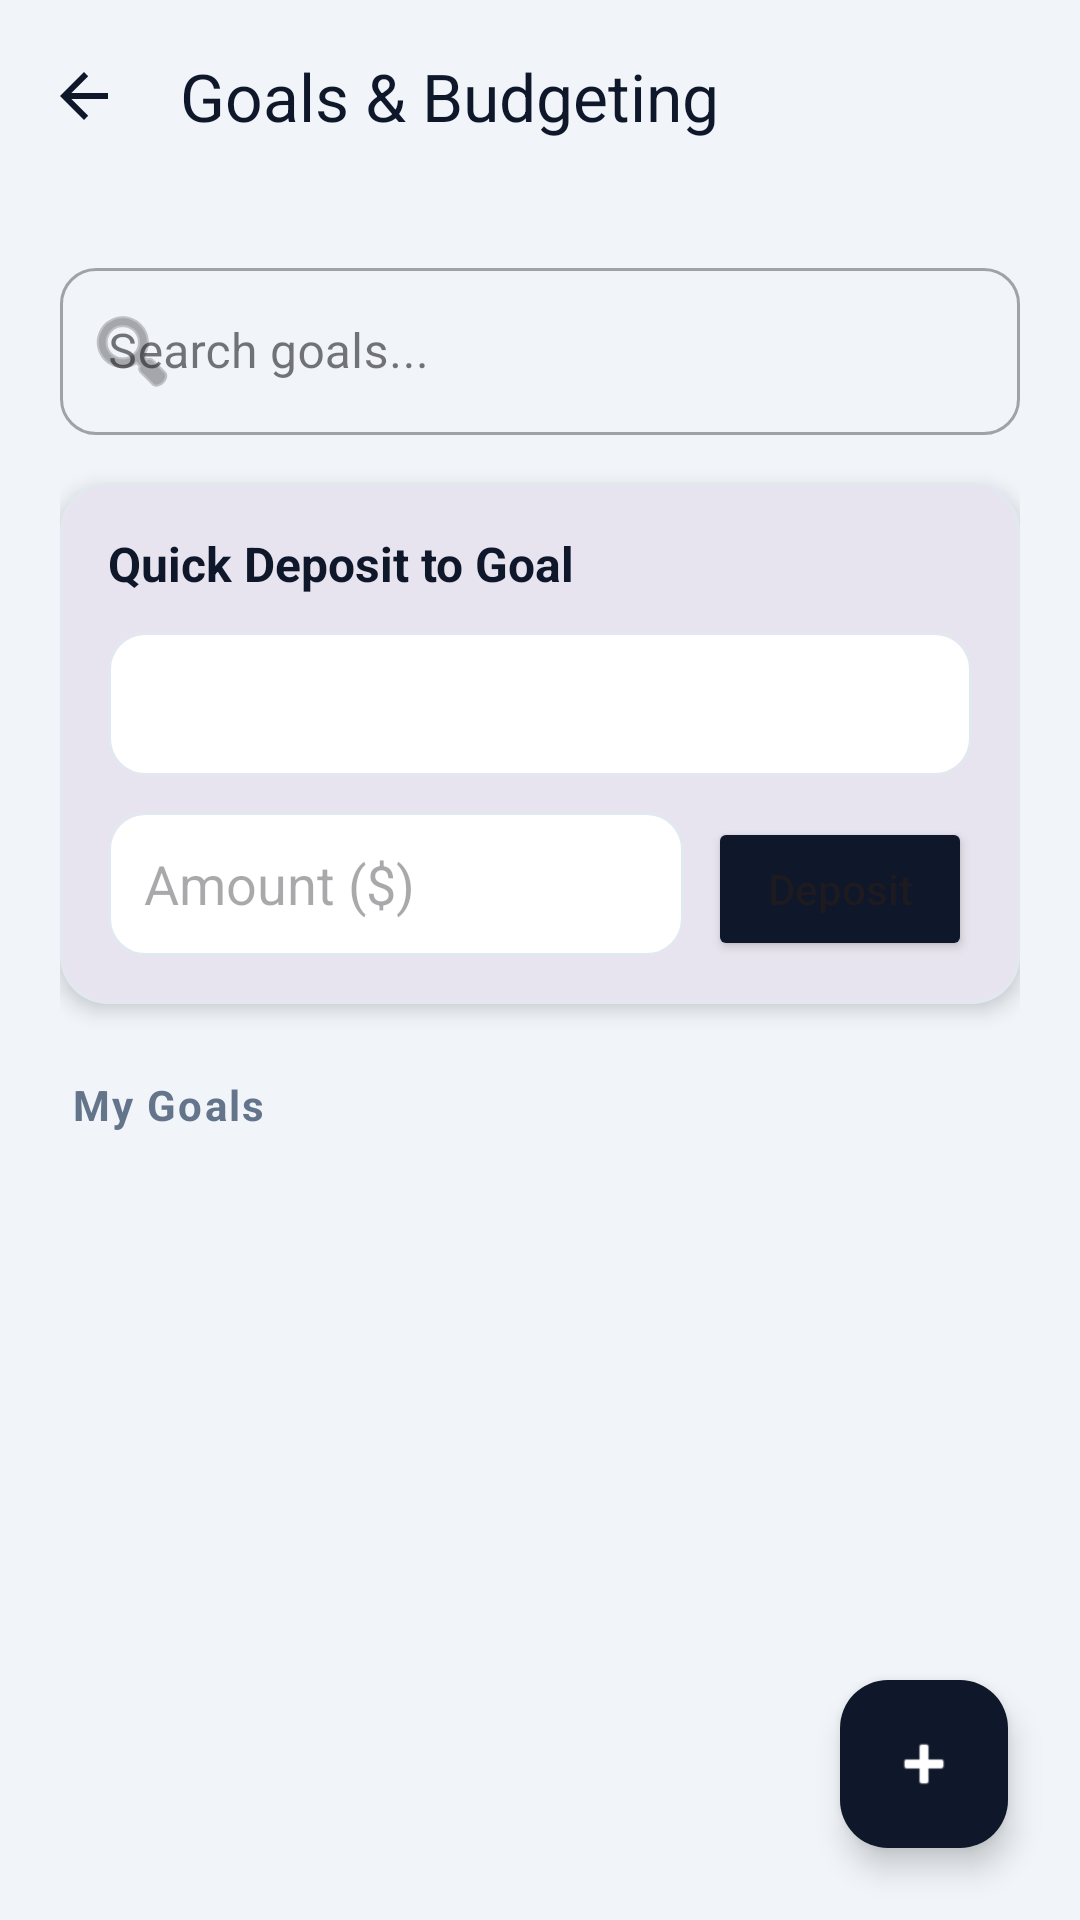

Named icons in this screenshot (1080*1920) and their bounding boxes, {"left": x1, "top": y1, "right": x2, "bottom": y2}:
Add new goal: {"left": 840, "top": 1680, "right": 1008, "bottom": 1848}
